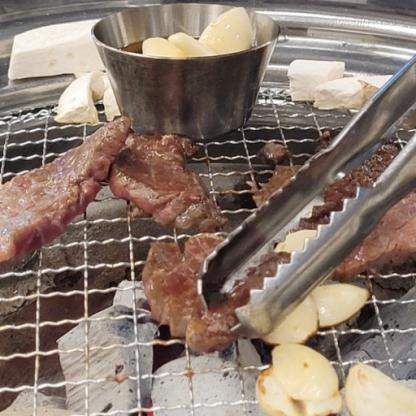Carne: (1, 108, 124, 262), (105, 136, 224, 238)
